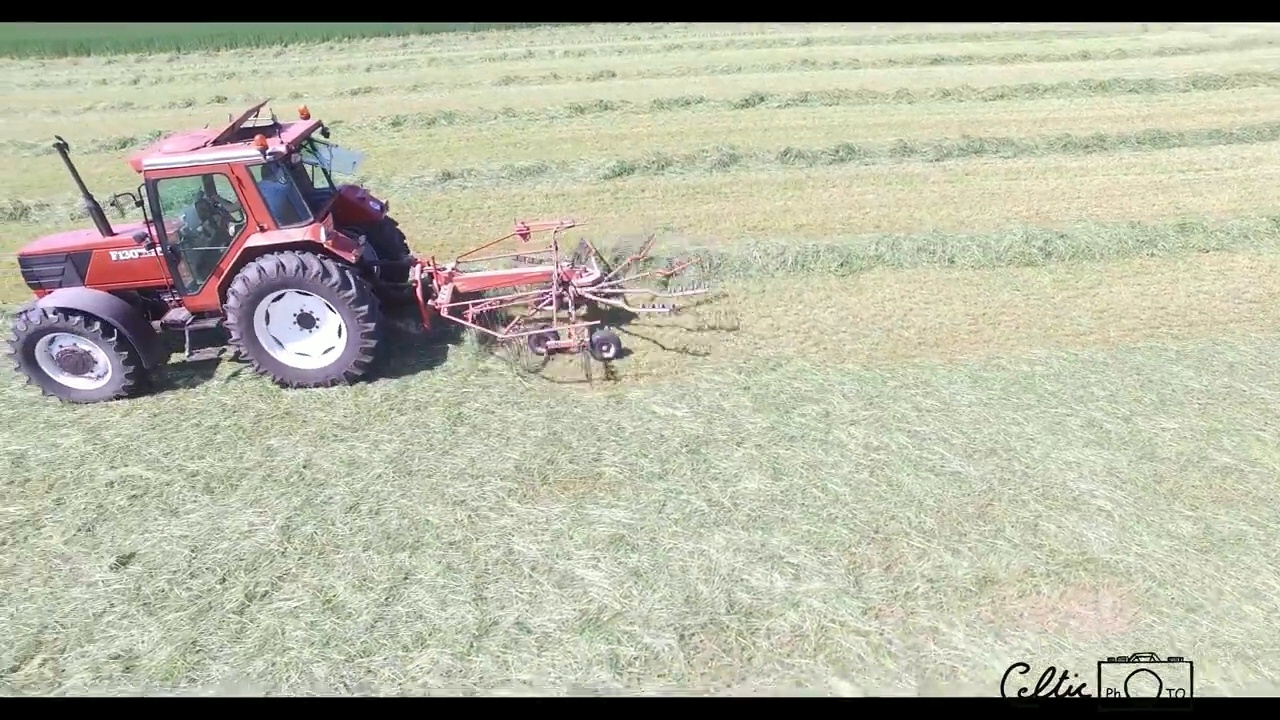traktor: (12, 97, 418, 406)
